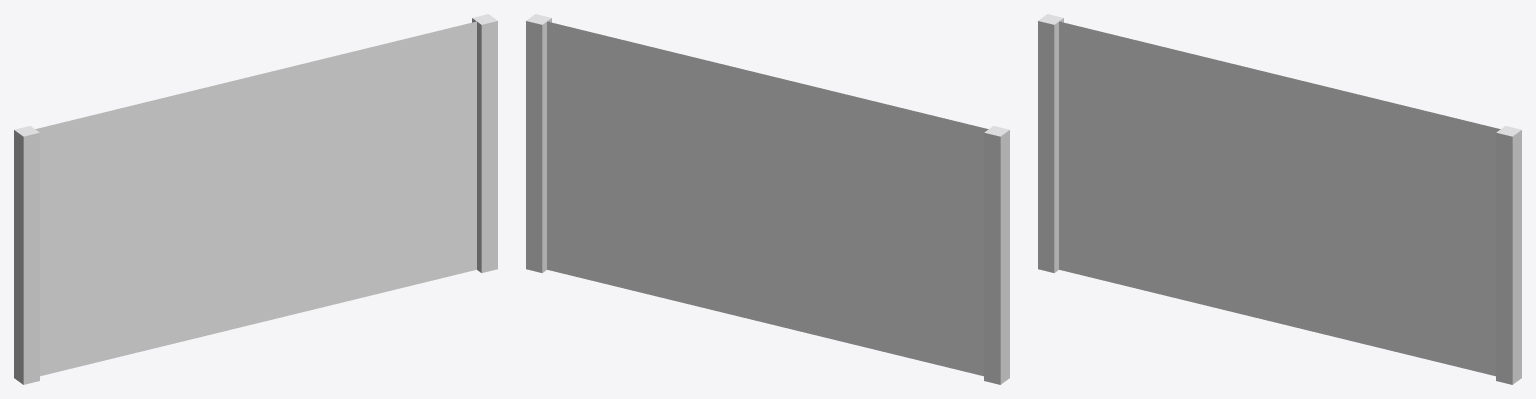
File: fence-straight.glb
The picture shows the model from 3 angles, left to right: view 1: azimuth 30°, elevation 25°; view 2: azimuth 150°, elevation 25°; view 3: azimuth 330°, elevation 25°; orthographic projection.
Visible parts, largest first — view 1: fenceStraight; view 2: fenceStraight; view 3: fenceStraight.
Part boxes in pixels (bbox=[...]): fenceStraight: bbox=[14, 14, 497, 384]; fenceStraight: bbox=[526, 14, 1009, 384]; fenceStraight: bbox=[1038, 14, 1521, 384].
Bounding box in the file's own units: 6 × 3 × 0.2073.
Materials: 2 (1 with a texture image).
